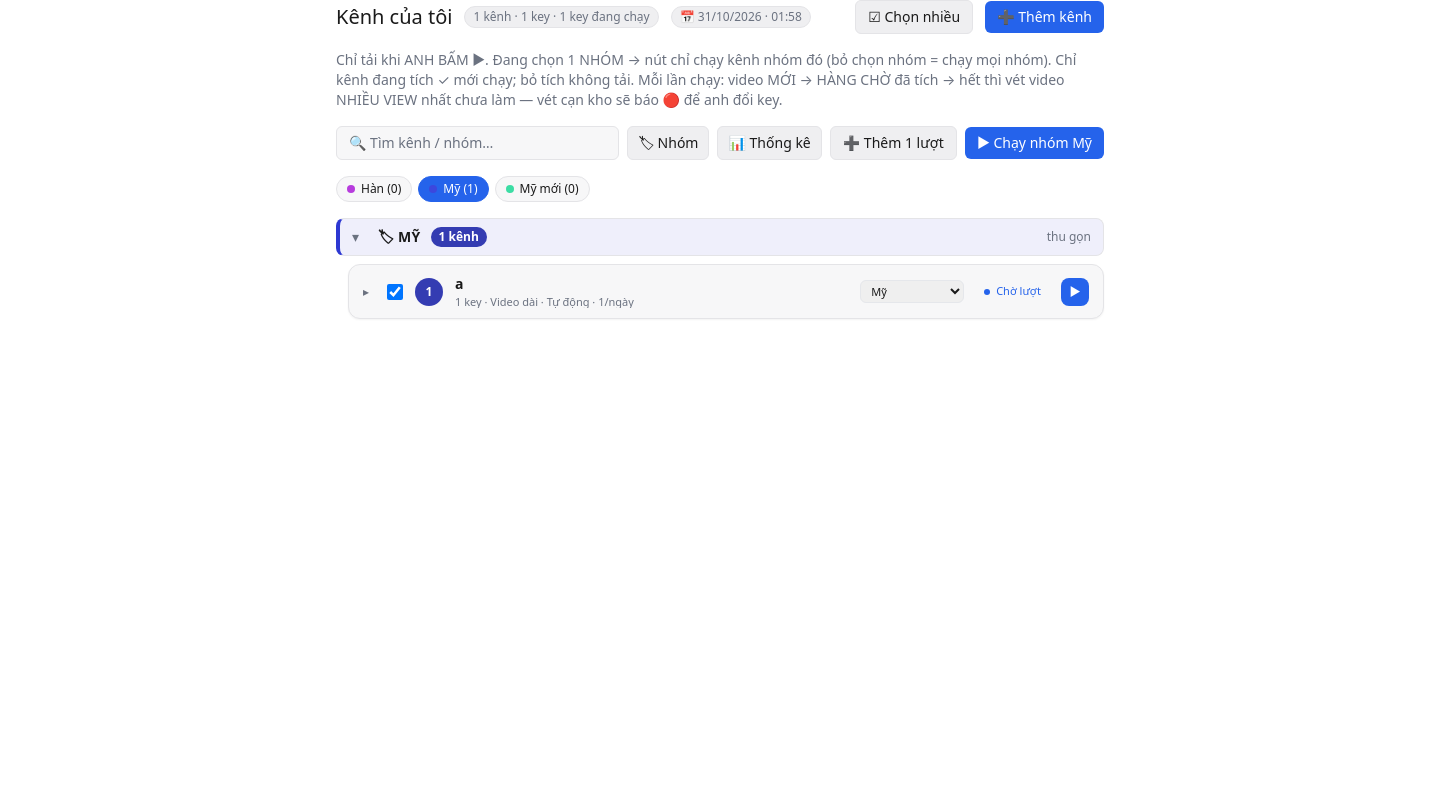
Test: LỖI 1 — thêm kênh phải vào ĐÚNG nhóm đang xem › đang lọc nhóm 'Mỹ' → mặc định 'Mỹ' (KHÔNG dính nhóm khác)
Expected: the dropdown is shown, [860,280,964,303]
Click the button "➕ Thêm kênh": (1045, 17) [985,1,1104,33]
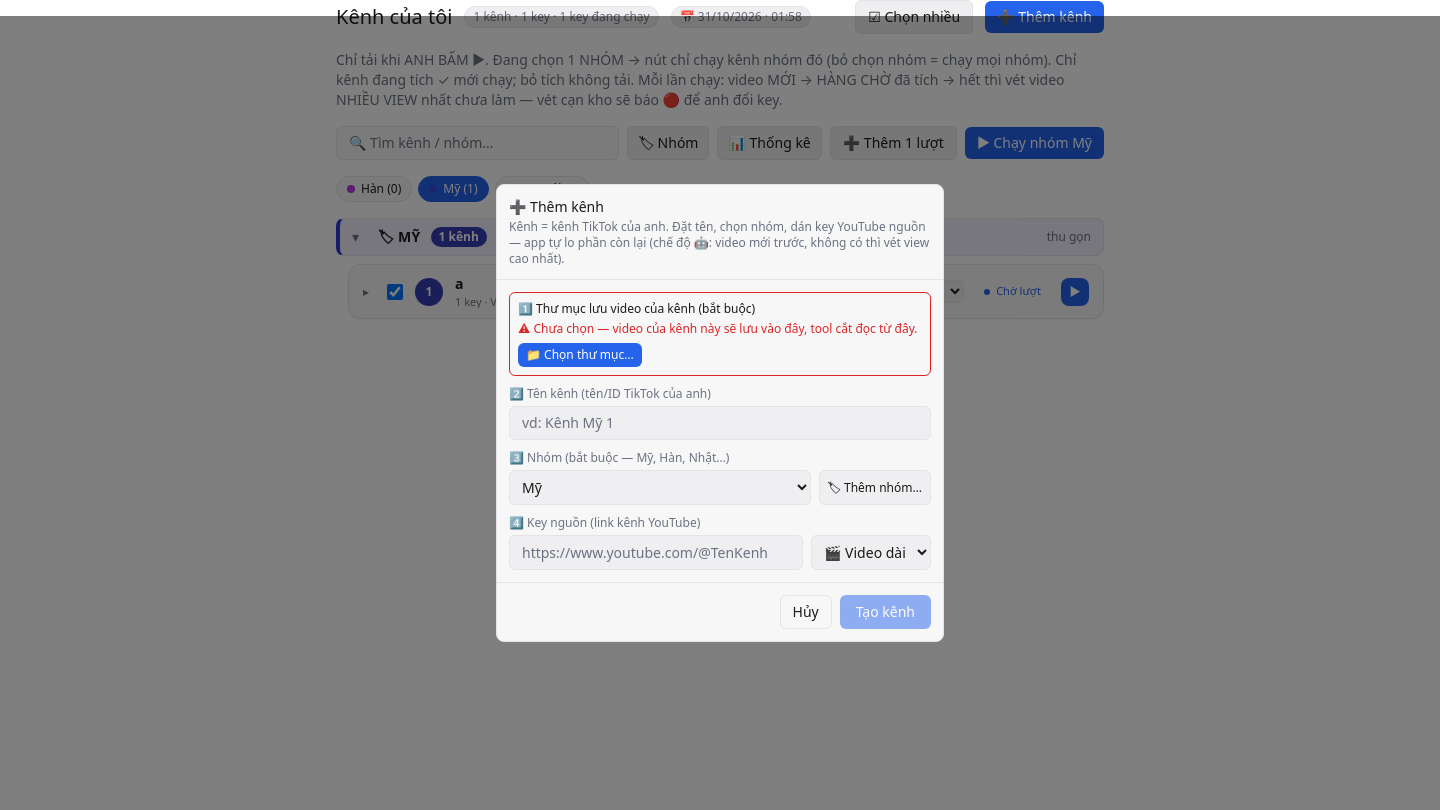
Now the 1st dropdown shows "Mỹ", box [509,470,810,505]
